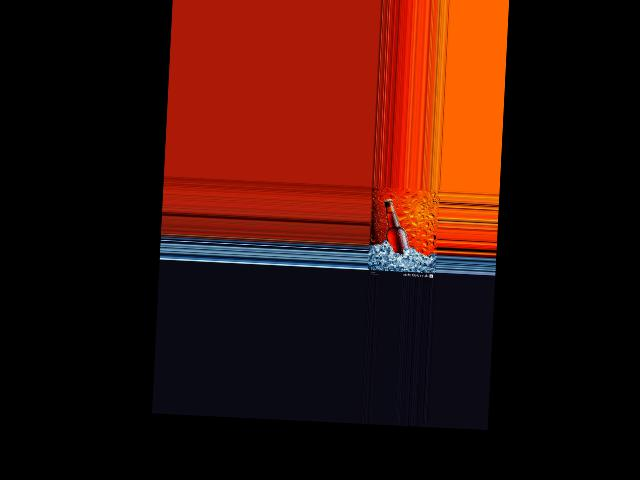beer: (379, 198, 411, 255)
